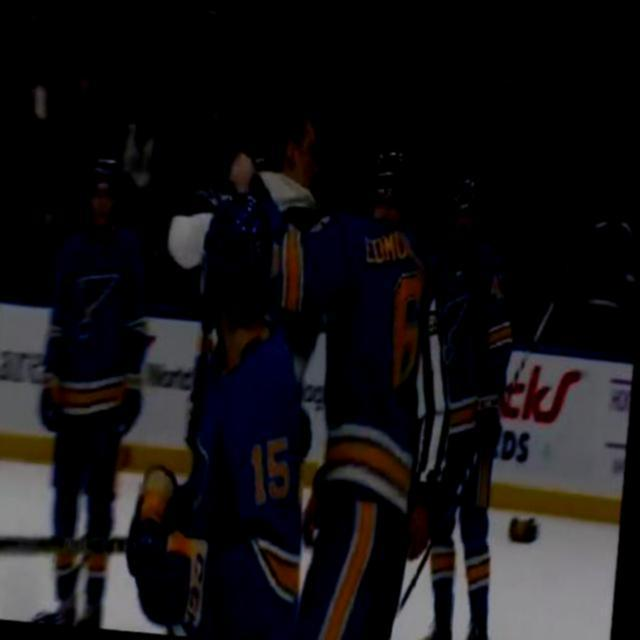fight: (172, 89, 444, 338)
